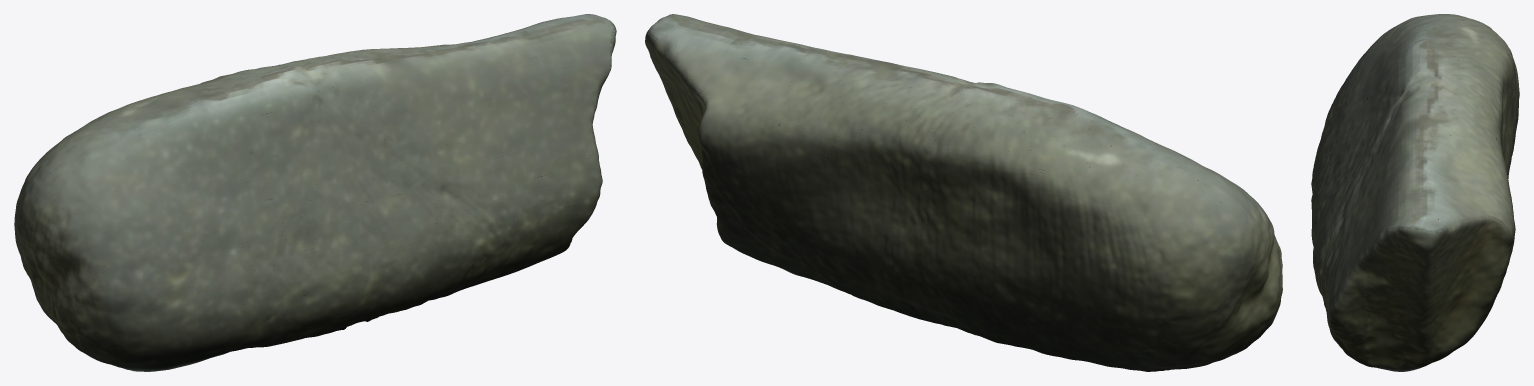
The model's file is Artifact-Lithic-6-Sharpener.fbx.
The picture shows the model from 3 angles, left to right: view 1: azimuth 30°, elevation 25°; view 2: azimuth 150°, elevation 25°; view 3: azimuth 270°, elevation 25°; orthographic projection. The views are drawn at different scales.
Visible parts, largest first — view 1: E_B347-Lithic 6sharpener; view 2: E_B347-Lithic 6sharpener; view 3: E_B347-Lithic 6sharpener.
Part boxes in pixels (x1,y1,x2,y2): E_B347-Lithic 6sharpener: (14, 14, 616, 371); E_B347-Lithic 6sharpener: (645, 14, 1282, 371); E_B347-Lithic 6sharpener: (1311, 14, 1519, 371).
Bounding box in the file's own units: 7820 × 2878 × 2694.
Materials: 1 (1 with a texture image).
